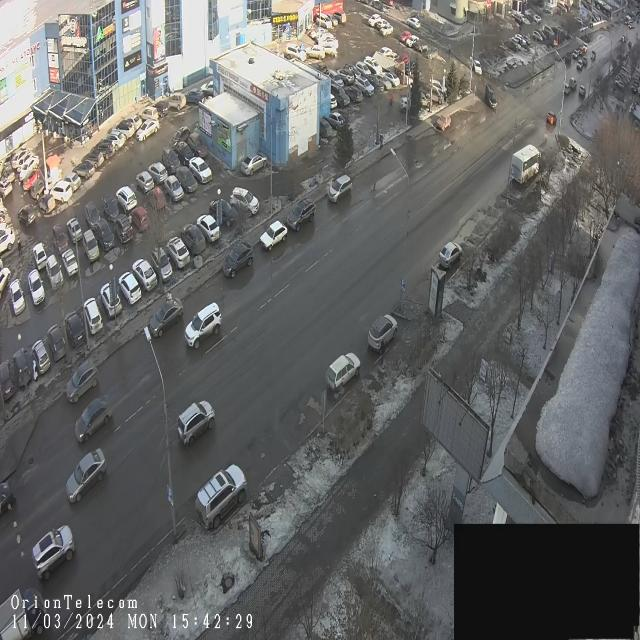car: (195, 464, 249, 530), (32, 517, 76, 585), (65, 443, 109, 508), (74, 394, 113, 451), (184, 303, 227, 352), (176, 399, 217, 448), (324, 348, 364, 398), (148, 294, 186, 343), (65, 354, 99, 406), (221, 236, 255, 283), (367, 311, 399, 354), (510, 146, 540, 190), (285, 196, 316, 236), (435, 237, 468, 273), (239, 143, 271, 180), (260, 216, 288, 258), (229, 185, 260, 222), (326, 171, 354, 211), (210, 194, 240, 230), (132, 256, 158, 296), (98, 282, 124, 321), (167, 232, 191, 272), (118, 268, 142, 308), (152, 241, 174, 284), (64, 308, 86, 351), (47, 320, 67, 365), (181, 223, 207, 257), (83, 294, 103, 338), (196, 210, 221, 245), (32, 336, 52, 378), (13, 348, 33, 390), (80, 225, 100, 267), (28, 168, 50, 205), (136, 113, 160, 145), (28, 269, 47, 309), (45, 252, 63, 294), (98, 128, 124, 157), (188, 157, 213, 187), (96, 215, 116, 252), (116, 182, 138, 215), (169, 122, 191, 155), (0, 355, 15, 403), (130, 200, 150, 236), (132, 168, 156, 198), (34, 185, 57, 216), (176, 166, 198, 198), (188, 130, 210, 162), (170, 141, 196, 168), (147, 157, 169, 188), (165, 171, 184, 204), (49, 180, 73, 206), (31, 240, 49, 274), (10, 279, 26, 317), (114, 214, 134, 244), (353, 74, 376, 100), (18, 199, 36, 232), (51, 223, 70, 254), (285, 42, 306, 70), (66, 214, 84, 246), (58, 170, 82, 194), (324, 107, 347, 132), (162, 145, 180, 176), (71, 158, 95, 181), (91, 139, 114, 163), (148, 185, 167, 214), (109, 122, 134, 144), (122, 109, 143, 135), (61, 249, 79, 279), (343, 81, 363, 108), (434, 110, 453, 138), (86, 197, 102, 230), (164, 87, 186, 111), (103, 192, 120, 223), (150, 95, 170, 119), (304, 43, 328, 61), (79, 152, 104, 169), (383, 68, 401, 91)
